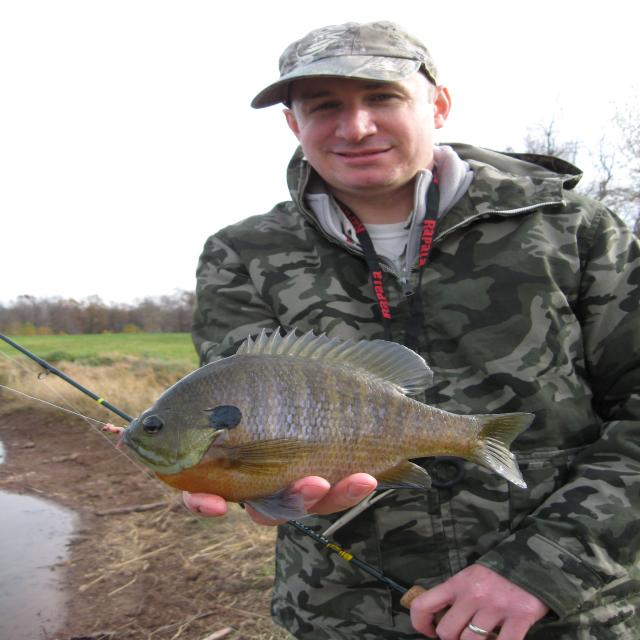Bluegill: (123, 330, 533, 519)
